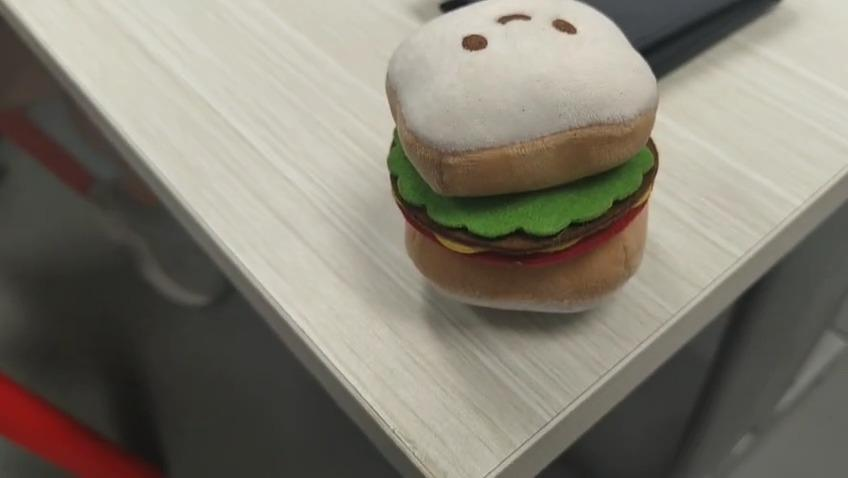objects: (383, 0, 664, 320)
